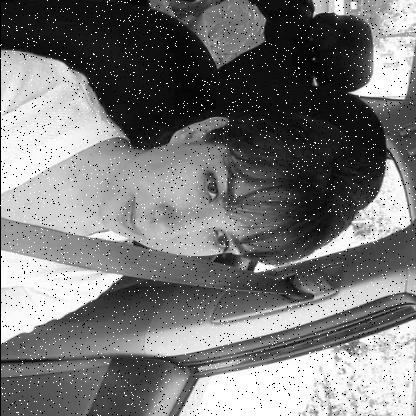seatbelt: (0, 104, 379, 284)
